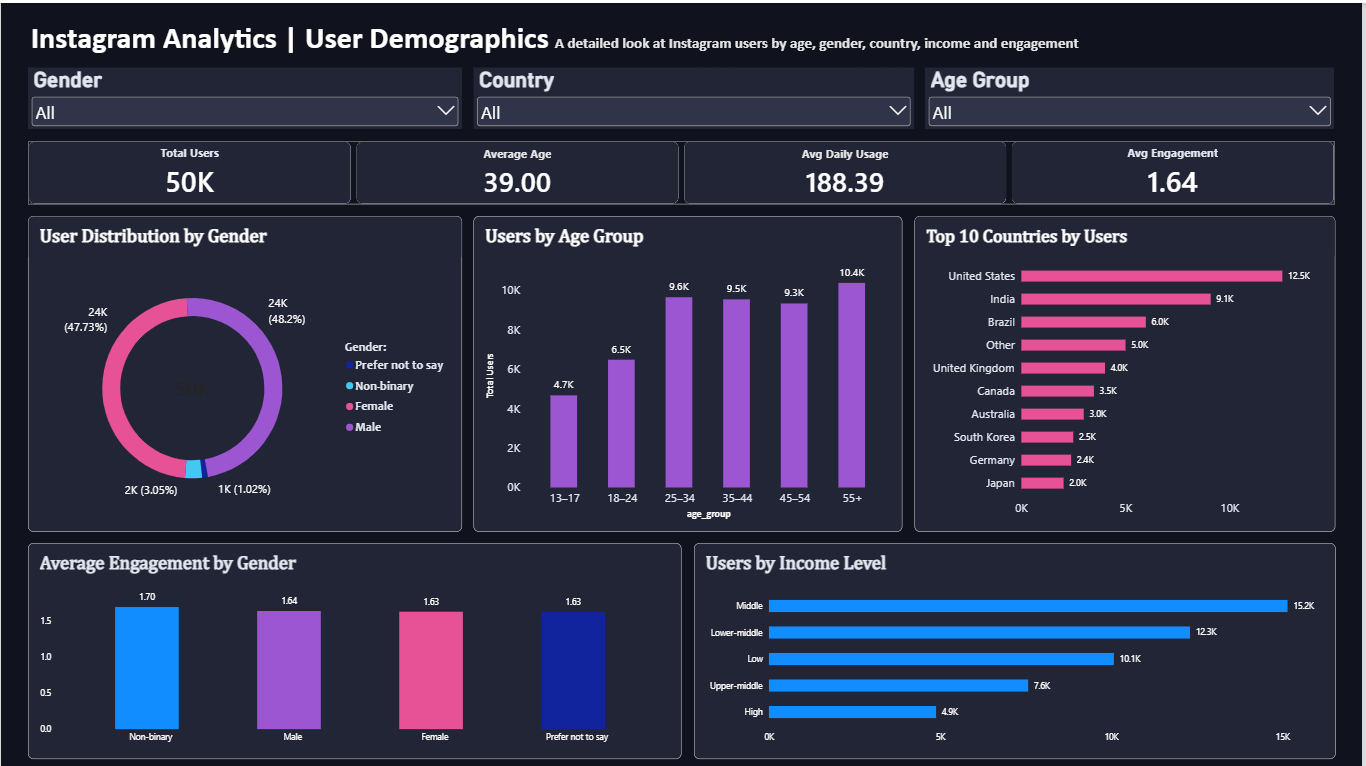

Layout of this report page (visuals, bound fields, positions):
{"tool":"powerbi","page":{"name":"02 - User Demographics ","canvas":[1920,1080],"ordinal":1},"visuals":[{"type":"cardVisual","fields":{"Data":["InstagramUsers.Total Users","InstagramUsers.Average Age","InstagramUsers.Avg Daily Usage","InstagramUsers.Avg Engagement"]},"box":[37.5,194.6,1845.1,89.1],"z":0},{"type":"donutChart","title":"User Distribution by Gender","fields":{"Category":["InstagramUsers.gender"],"Y":["InstagramUsers.Total Users"]},"box":[37.5,300.1,611.9,445.5],"z":1000},{"type":"clusteredColumnChart","title":"Users by Age Group","fields":{"Category":["InstagramUsers.age_group"],"Y":["InstagramUsers.Total Users"]},"box":[665.8,300.1,604.9,445.5],"z":2000},{"type":"slicer","fields":{"Values":["InstagramUsers.gender"]},"box":[37.5,91.4,611.9,86.7],"z":3000},{"type":"slicer","fields":{"Values":["InstagramUsers.age_group"]},"box":[1303.5,91.4,576.7,86.7],"z":4000},{"type":"slicer","fields":{"Values":["InstagramUsers.country"]},"box":[665.8,91.4,621.3,86.7],"z":5000},{"type":"textbox","box":[42.3,23.3,1524.9,59.2],"z":6000},{"type":"clusteredBarChart","title":"Top 10 Countries by Users","fields":{"Category":["InstagramUsers.country"],"Y":["InstagramUsers.Total Users"]},"box":[1287.1,300.1,593.2,445.5],"z":7000},{"type":"clusteredColumnChart","title":"Average Engagement by Gender","fields":{"Category":["InstagramUsers.gender"],"Y":["InstagramUsers.Avg Engagement"]},"box":[37.5,762,921.4,304.8],"z":8000},{"type":"clusteredBarChart","title":"Users by Income Level","fields":{"Category":["InstagramUsers.income_level"],"Y":["InstagramUsers.Total Users"]},"box":[977.6,762,905,304.8],"z":9000}]}

Visuals, with their boxes in screenshot pixels (x1, y1, x2, y2), scaled from the page's 1920x1080 canvas onto the 1366x766 screenshot:
cardVisual - InstagramUsers.Total Users x InstagramUsers.Average Age: x1=27 y1=138 x2=1339 y2=201
"User Distribution by Gender" donutChart: x1=27 y1=213 x2=462 y2=529
"Users by Age Group" clusteredColumnChart: x1=474 y1=213 x2=904 y2=529
slicer - InstagramUsers.gender: x1=27 y1=65 x2=462 y2=126
slicer - InstagramUsers.age_group: x1=927 y1=65 x2=1338 y2=126
slicer - InstagramUsers.country: x1=474 y1=65 x2=916 y2=126
textbox: x1=30 y1=17 x2=1115 y2=59
"Top 10 Countries by Users" clusteredBarChart: x1=916 y1=213 x2=1338 y2=529
"Average Engagement by Gender" clusteredColumnChart: x1=27 y1=540 x2=682 y2=757
"Users by Income Level" clusteredBarChart: x1=696 y1=540 x2=1339 y2=757
